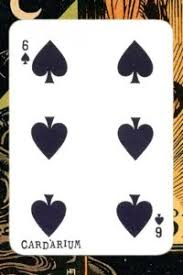six of spades: (8, 19, 171, 254)
